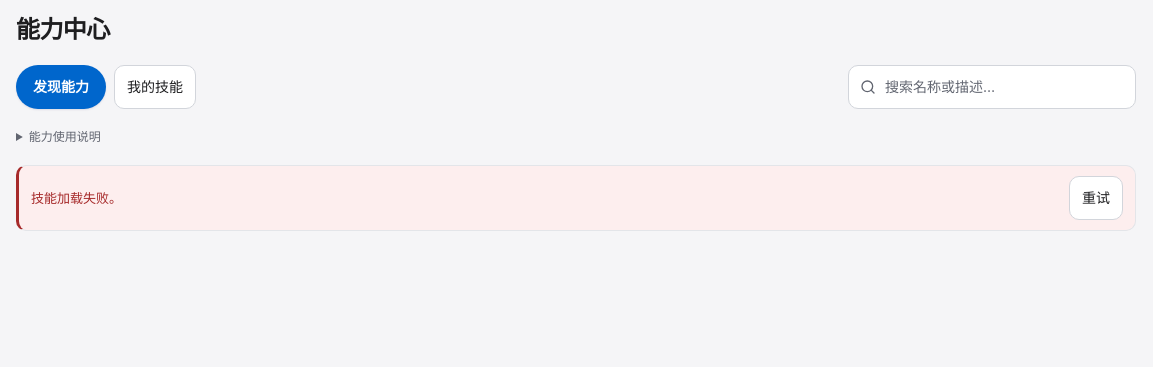
Test: 能力中心 › 列表失败提供重试并恢复，空列表保留空态
This screenshot has width=1153, height=367.
Expected: the text "技能加载失败。" is shown, x1=31 y1=188 x2=122 y2=208
Click the button "重试". click: (1096, 198)
box: x1=1069 y1=176 x2=1123 y2=220
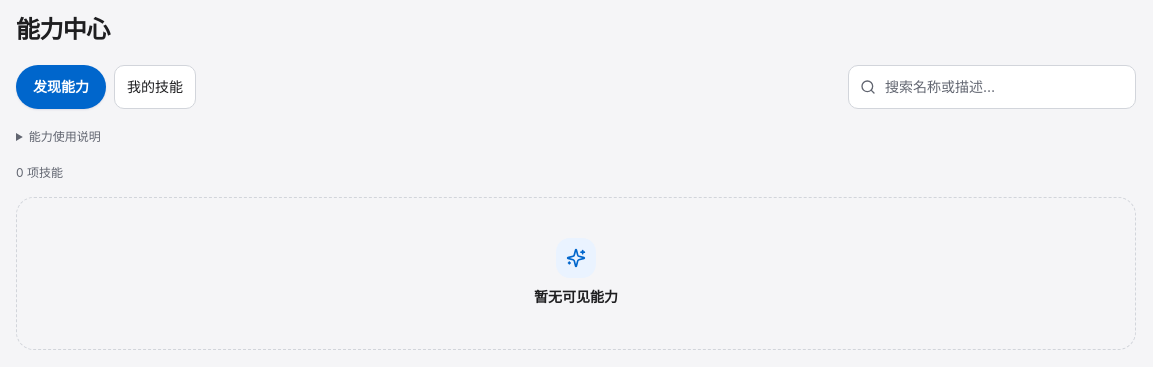
Expected: the text "暂无可见能力" is shown, x1=534 y1=286 x2=618 y2=309
